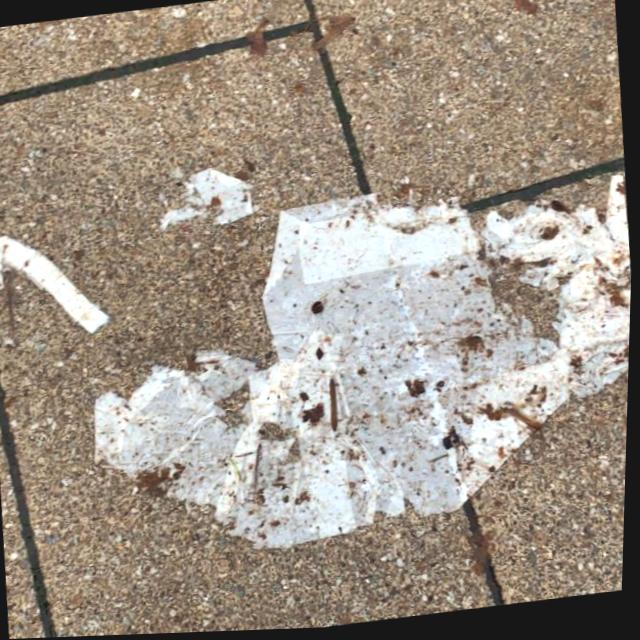Paper: (69, 162, 636, 576)
